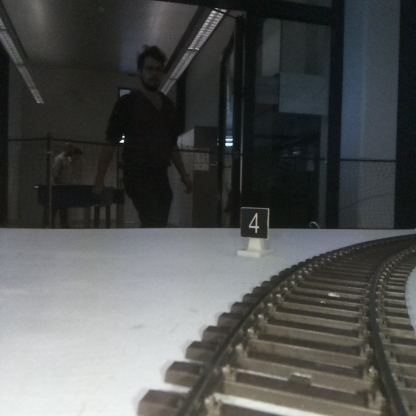black-stop-4: (240, 208, 268, 255)
